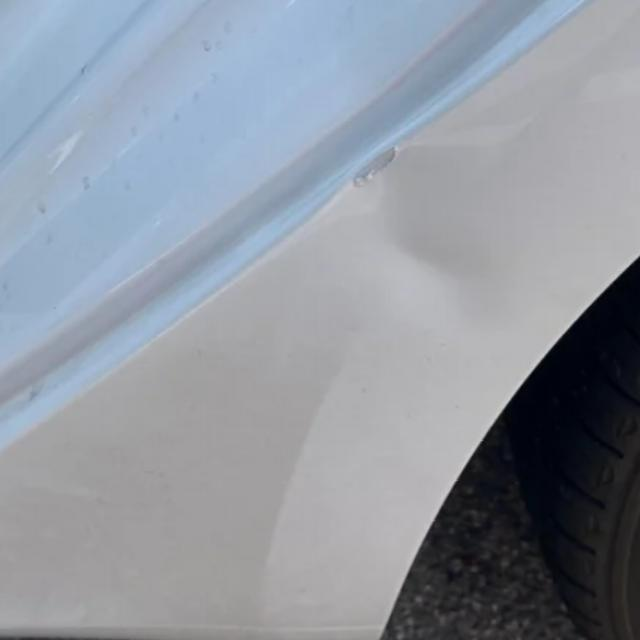dents: (328, 126, 570, 359)
